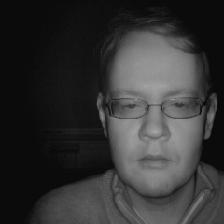normal: (81, 11, 224, 204)
